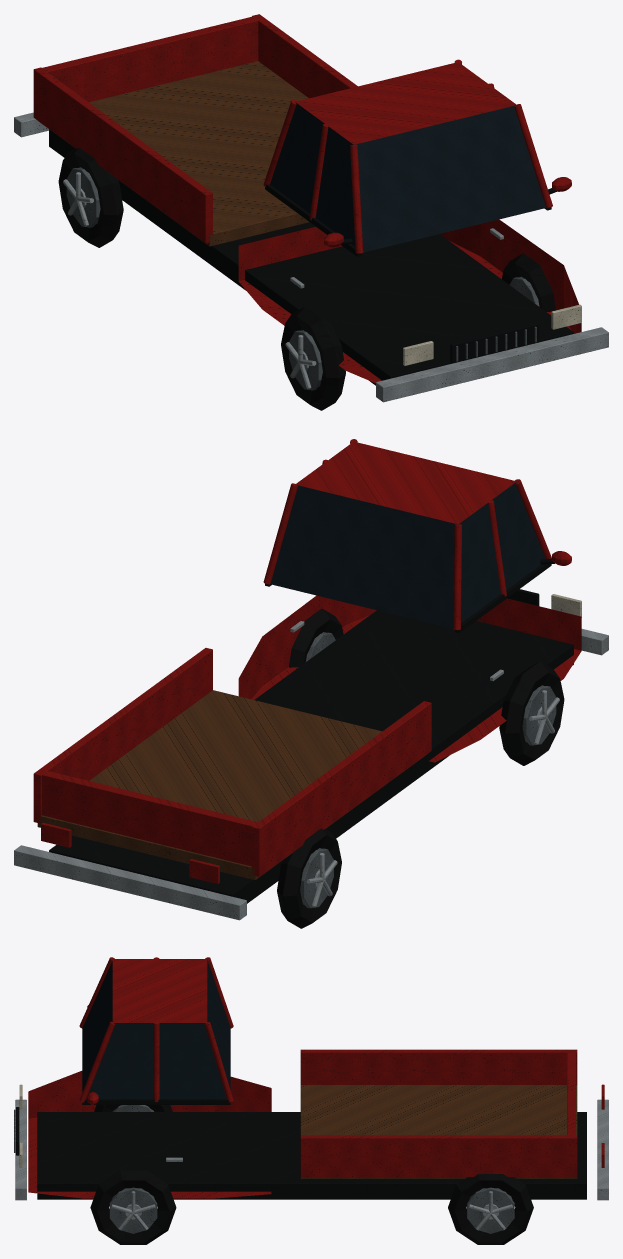
Rendered from PROP-B7C7CF04E654_lod1.glb.
The picture shows the model from 3 angles, top to bottom: view 1: azimuth 30°, elevation 25°; view 2: azimuth 150°, elevation 25°; view 3: azimuth 270°, elevation 25°; orthographic projection. The views are drawn at different scales.
Visible parts, largest first — view 1: chassis.019, sloped_cabin_glazing.019, bed_deck.003, bed_sides.003, roof_panel.017, tailgate.003, tire.019, shaped_body_panels.019, bumper.019, window_pillars.019, rim.019, radiator_grille.019 (+3 smaller); view 2: chassis.019, sloped_cabin_glazing.019, bed_deck.003, bed_sides.003, tailgate.003, roof_panel.017, shaped_body_panels.019, tire.019, bumper.019, window_pillars.019, rim.019, lamp_lenses.039 (+2 smaller); view 3: chassis.019, bed_sides.003, bed_deck.003, sloped_cabin_glazing.019, tire.019, roof_panel.017, shaped_body_panels.019, rim.019, window_pillars.019, bumper.019, rim_spokes.019, window_belt.019 (+1 smaller).
Boxes of the visible parts, bbox=[...] form: chassis.019: bbox=[49, 129, 573, 385]; sloped_cabin_glazing.019: bbox=[270, 102, 545, 252]; bed_deck.003: bbox=[38, 61, 309, 246]; bed_sides.003: bbox=[33, 14, 357, 243]; roof_panel.017: bbox=[295, 62, 516, 144]; tailgate.003: bbox=[39, 15, 259, 102]; tire.019: bbox=[58, 147, 556, 410]; shaped_body_panels.019: bbox=[238, 219, 581, 383]; bumper.019: bbox=[14, 112, 608, 402]; window_pillars.019: bbox=[263, 59, 552, 253]; rim.019: bbox=[66, 167, 539, 390]; radiator_grille.019: bbox=[450, 323, 539, 363]; chassis.019: bbox=[49, 610, 573, 903]; sloped_cabin_glazing.019: bbox=[270, 482, 545, 628]; bed_deck.003: bbox=[37, 690, 427, 879]; bed_sides.003: bbox=[33, 648, 431, 876]; tailgate.003: bbox=[42, 770, 260, 866]; roof_panel.017: bbox=[295, 441, 516, 524]; shaped_body_panels.019: bbox=[238, 595, 581, 762]; tire.019: bbox=[277, 608, 564, 928]; bumper.019: bbox=[14, 629, 608, 920]; window_pillars.019: bbox=[263, 439, 551, 630]; rim.019: bbox=[300, 632, 556, 908]; lamp_lenses.039: bbox=[41, 822, 219, 883]; chassis.019: bbox=[37, 1112, 586, 1199]; bed_sides.003: bbox=[300, 1049, 577, 1177]; bed_deck.003: bbox=[300, 1085, 577, 1178]; sloped_cabin_glazing.019: bbox=[82, 960, 230, 1098]; tire.019: bbox=[90, 1105, 533, 1244]; roof_panel.017: bbox=[112, 959, 207, 1022]; shaped_body_panels.019: bbox=[28, 1071, 271, 1198]; rim.019: bbox=[109, 1105, 514, 1233]; window_pillars.019: bbox=[79, 957, 233, 1102]; bumper.019: bbox=[15, 1099, 608, 1200]; rim_spokes.019: bbox=[111, 1191, 513, 1230]; window_belt.019: bbox=[82, 1099, 230, 1104].
Size of the model in its own units: 2.56 by 2.6 by 6.61.
8 materials, 8 textured.
